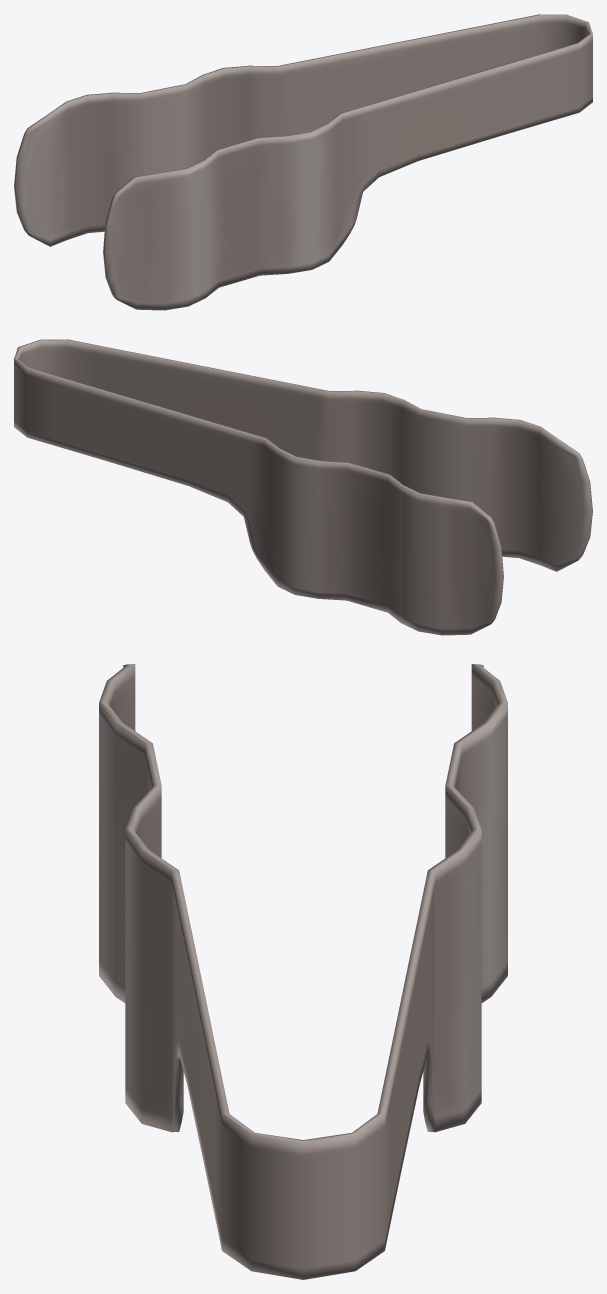
File: tongs.fbx
The picture shows the model from 3 angles, top to bottom: view 1: azimuth 30°, elevation 25°; view 2: azimuth 150°, elevation 25°; view 3: azimuth 270°, elevation 25°; orthographic projection. The views are drawn at different scales.
Visible parts, largest first — view 1: pie_tongs; view 2: pie_tongs; view 3: pie_tongs.
Part boxes in pixels (left/top/right/bottom): pie_tongs: left=14, top=14, right=592, bottom=310; pie_tongs: left=14, top=339, right=592, bottom=635; pie_tongs: left=99, top=664, right=507, bottom=1279.
Size of the model in its own units: 16.21 by 4 by 5.42.
